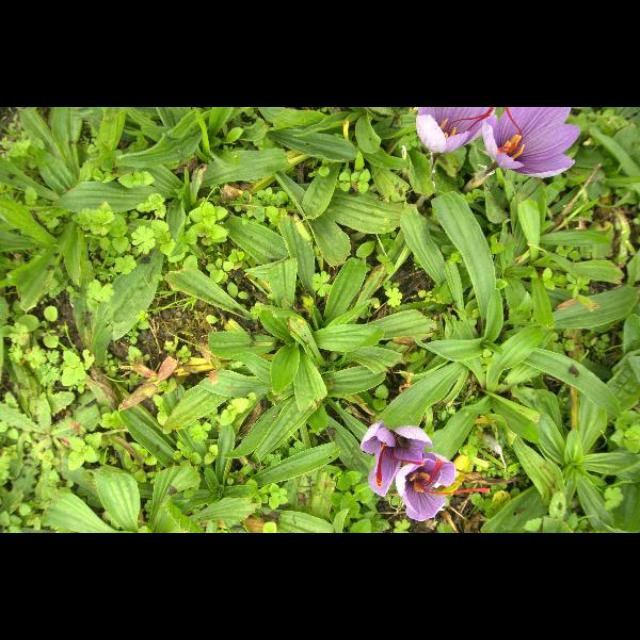flower: (482, 108, 582, 178), (395, 450, 491, 522), (359, 421, 435, 499), (414, 107, 496, 153)
